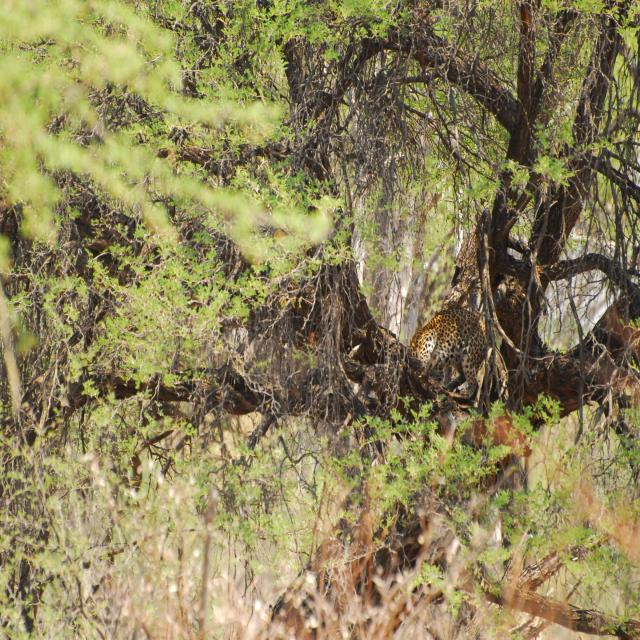Leopard: (404, 305, 493, 400)
